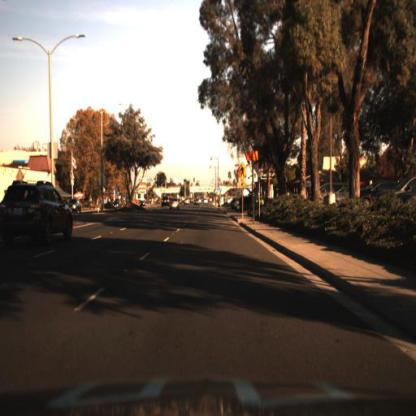car: (1, 178, 78, 240), (304, 176, 348, 206), (169, 194, 179, 210), (169, 196, 179, 212), (110, 198, 123, 210), (161, 195, 170, 207)
